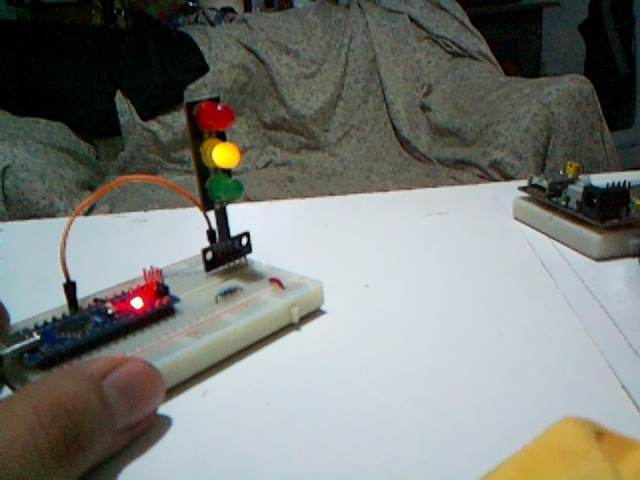traffic_light_yellow: (187, 98, 250, 269)
